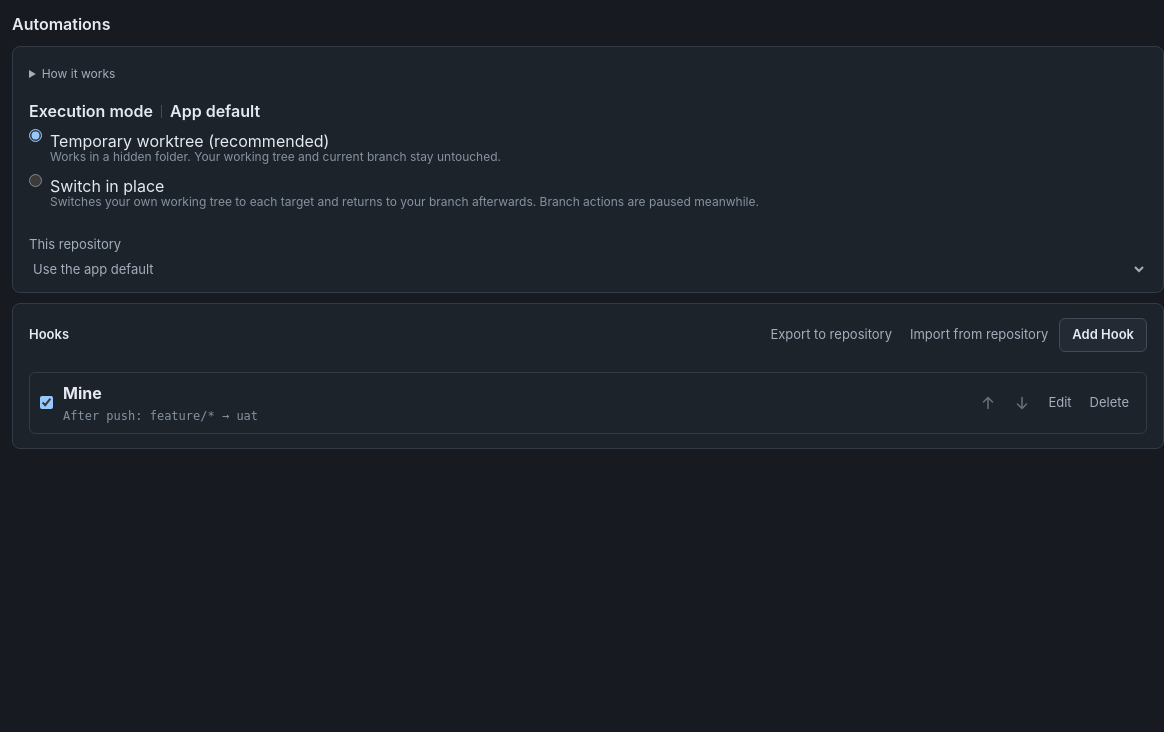
Test: will not confirm an import of a file with no rules
expect the text "Mine" is shown: met, box [63, 382, 102, 402]
Click the button "Import from repository".
click(979, 334)  # box [903, 318, 1055, 352]
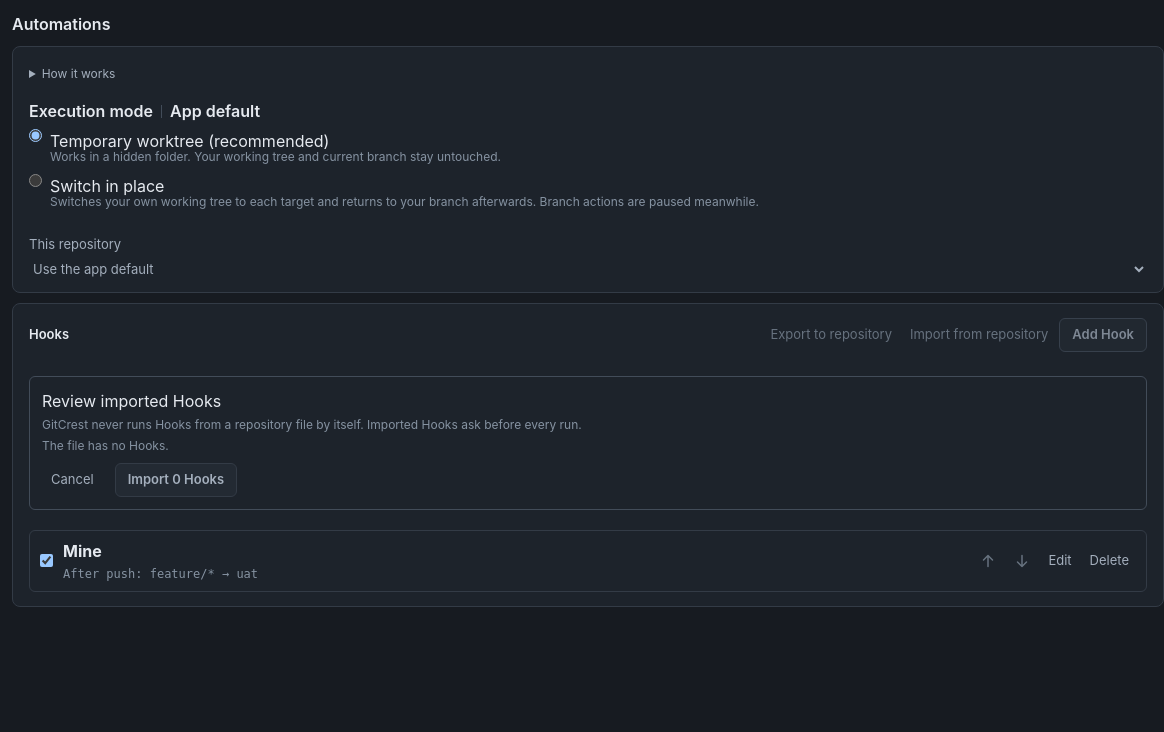
expect the text "The file has no Hooks." is shown: met, box [42, 438, 169, 452]
expect the button "Import 0 Hooks" is disabled: met, box [115, 462, 237, 496]
